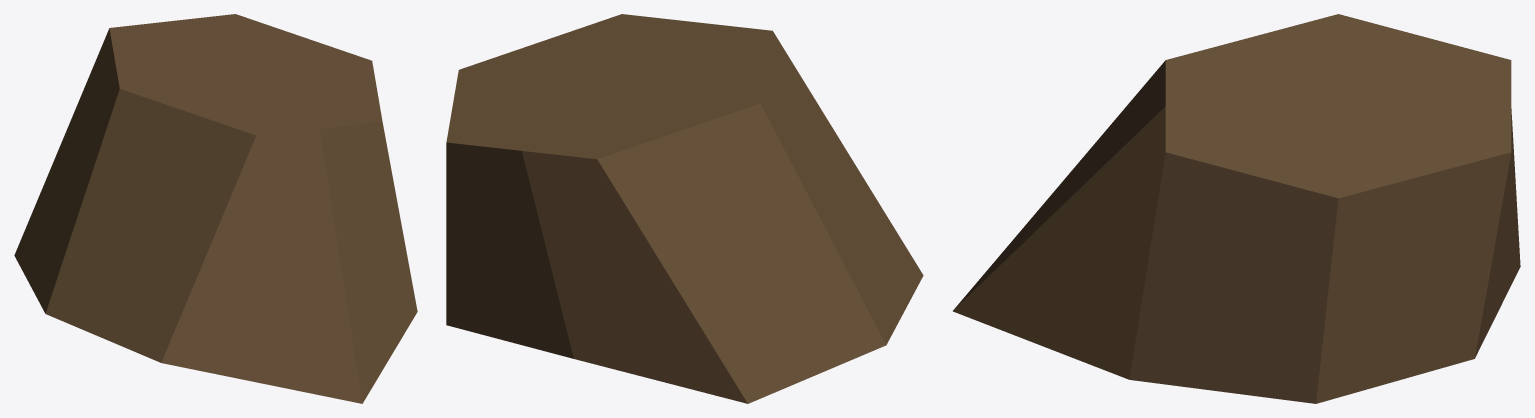
The model's file is tronc_petit_sapin.fbx.
3 renders of one model, left to right at view 1: azimuth 30°, elevation 25°; view 2: azimuth 150°, elevation 25°; view 3: azimuth 270°, elevation 25°, orthographic. The views are drawn at different scales.
Parts seen in each view (by area): view 1: Cube.001; view 2: Cube.001; view 3: Cube.001.
Part boxes in pixels (x1,y1,x2,y2): Cube.001: [14, 14, 417, 403]; Cube.001: [446, 14, 923, 403]; Cube.001: [953, 14, 1520, 403].
Bounding box in the file's own units: 133 × 76.35 × 156.
